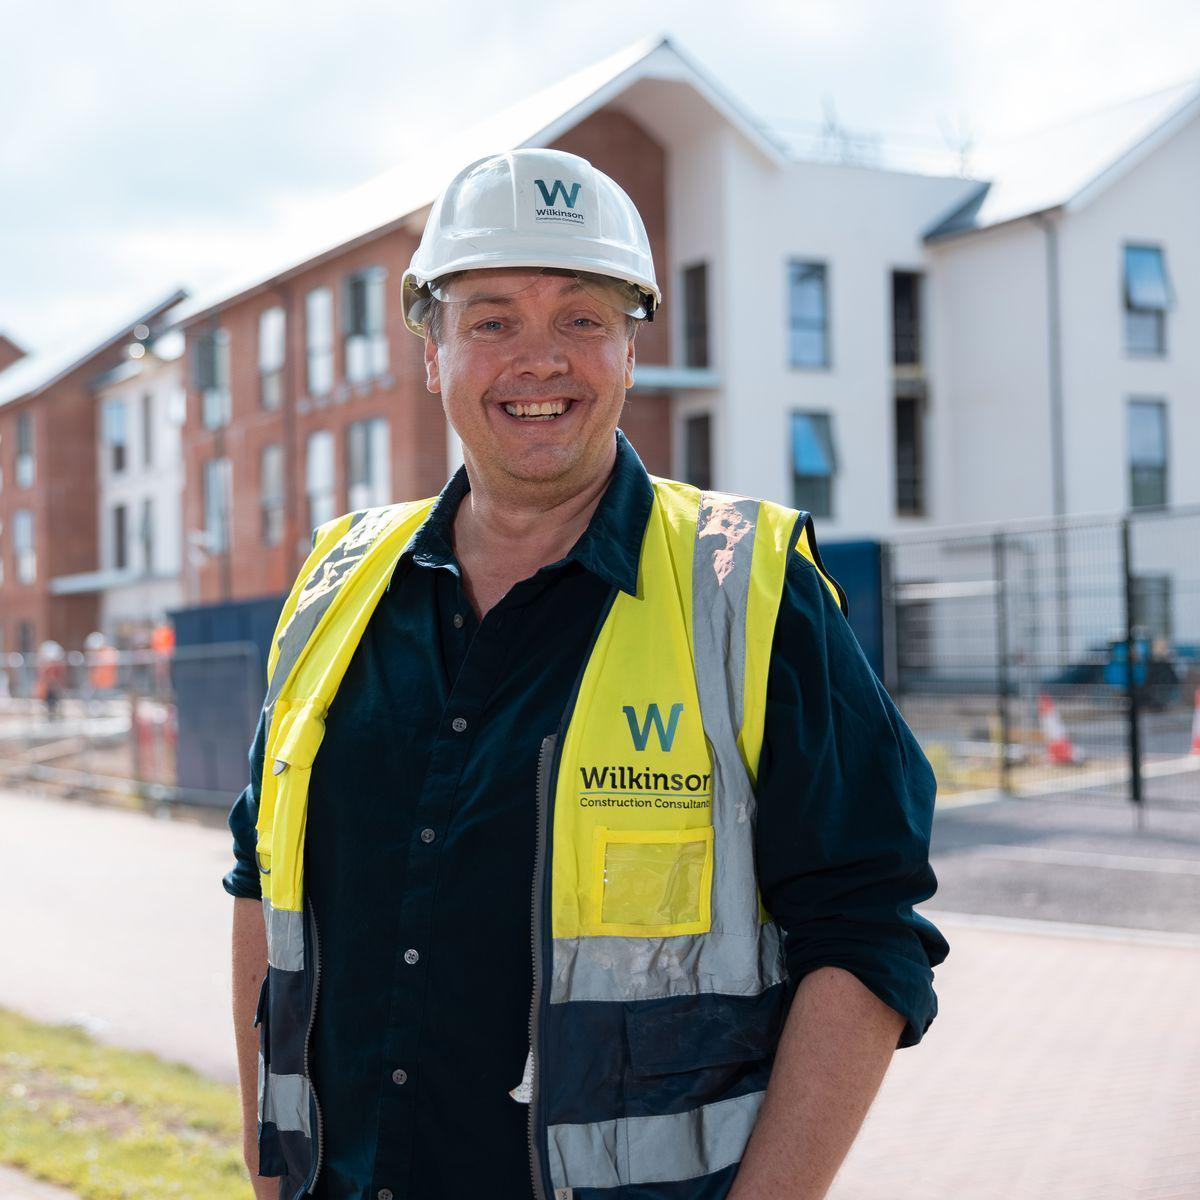helmet: (400, 148, 663, 316)
